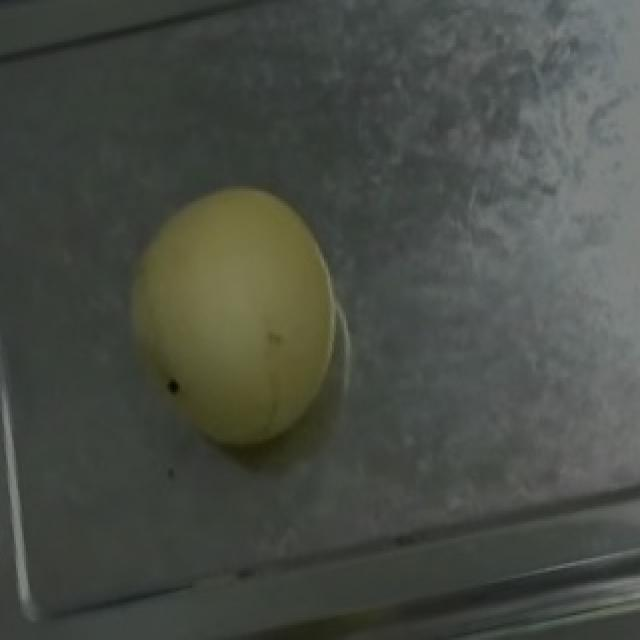Fruit: (96, 152, 370, 472)
